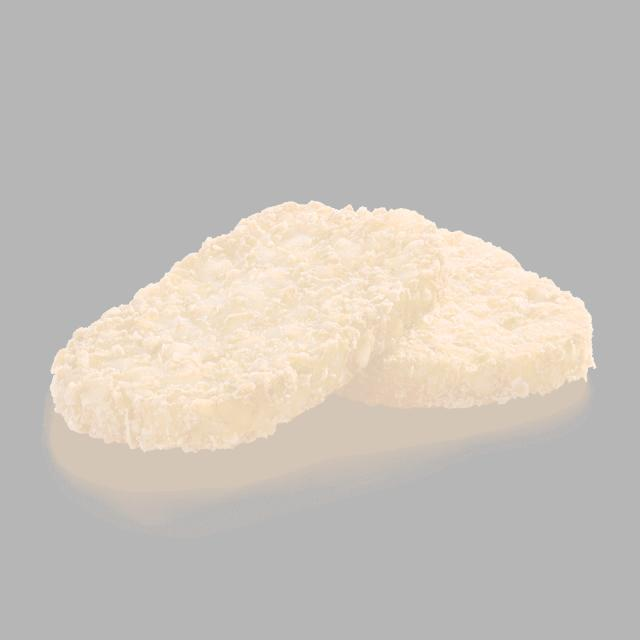Hashbrown: (45, 205, 591, 449), (49, 199, 444, 451), (353, 220, 592, 405)
